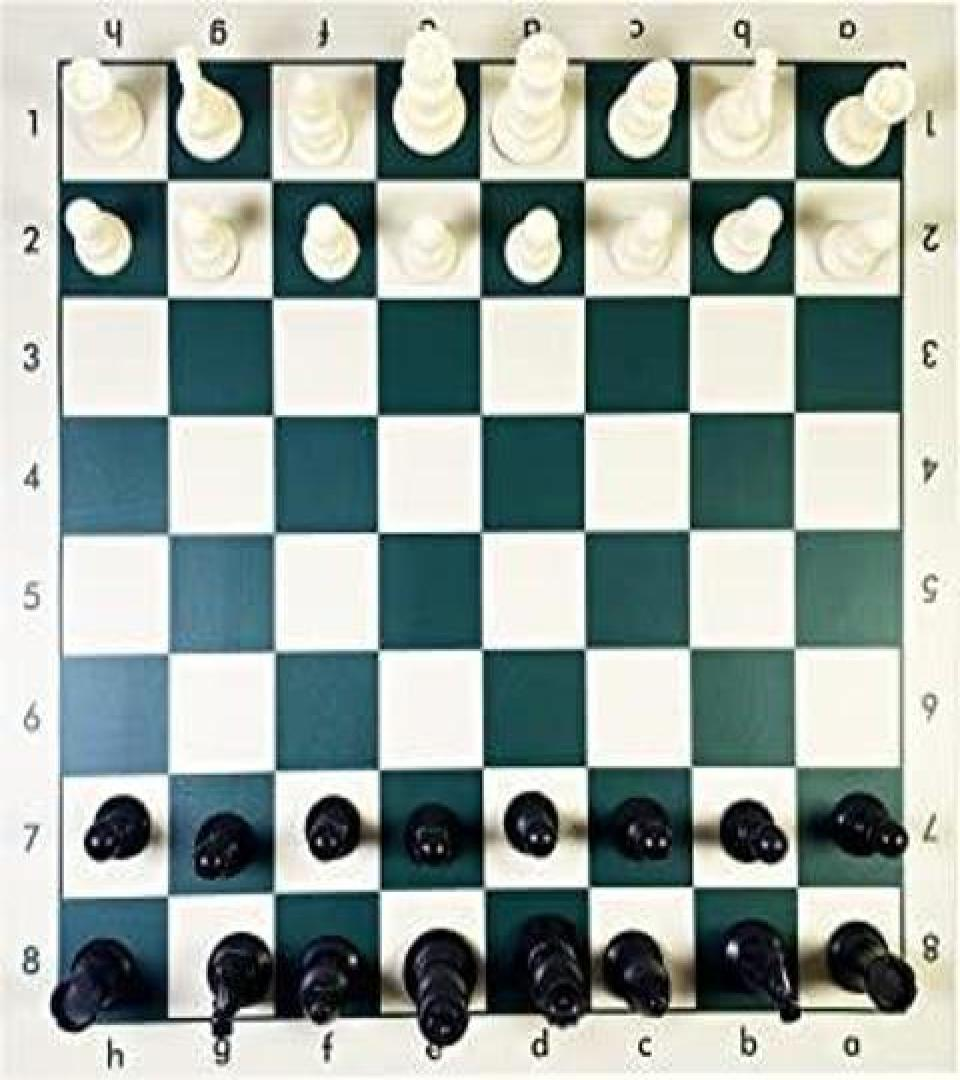xcorner: (680, 756, 714, 796), (680, 638, 714, 678), (575, 520, 609, 560), (470, 284, 504, 324), (365, 284, 399, 324), (260, 762, 294, 802), (259, 404, 293, 444), (153, 404, 187, 444), (785, 873, 819, 912), (784, 755, 818, 794), (784, 637, 818, 676), (782, 283, 816, 322), (782, 165, 816, 204), (681, 875, 715, 914), (679, 283, 713, 322), (678, 165, 712, 204), (576, 877, 610, 916), (576, 758, 610, 797), (575, 639, 609, 678), (575, 402, 609, 441), (574, 283, 608, 322), (574, 165, 608, 204), (471, 878, 505, 917), (471, 759, 505, 798), (471, 639, 505, 678), (470, 402, 504, 441), (469, 165, 503, 204), (366, 879, 400, 918), (366, 760, 400, 799), (365, 641, 399, 680), (365, 523, 399, 562), (364, 166, 398, 205), (260, 642, 294, 681), (260, 523, 294, 562), (259, 166, 293, 205), (154, 883, 188, 922), (154, 763, 188, 802), (154, 643, 188, 682), (154, 524, 188, 563), (153, 166, 187, 205), (783, 520, 817, 558), (783, 402, 817, 440), (679, 520, 713, 558), (679, 402, 713, 440), (470, 522, 504, 560), (365, 404, 399, 442), (260, 882, 294, 920), (259, 286, 293, 324), (153, 286, 187, 324)
